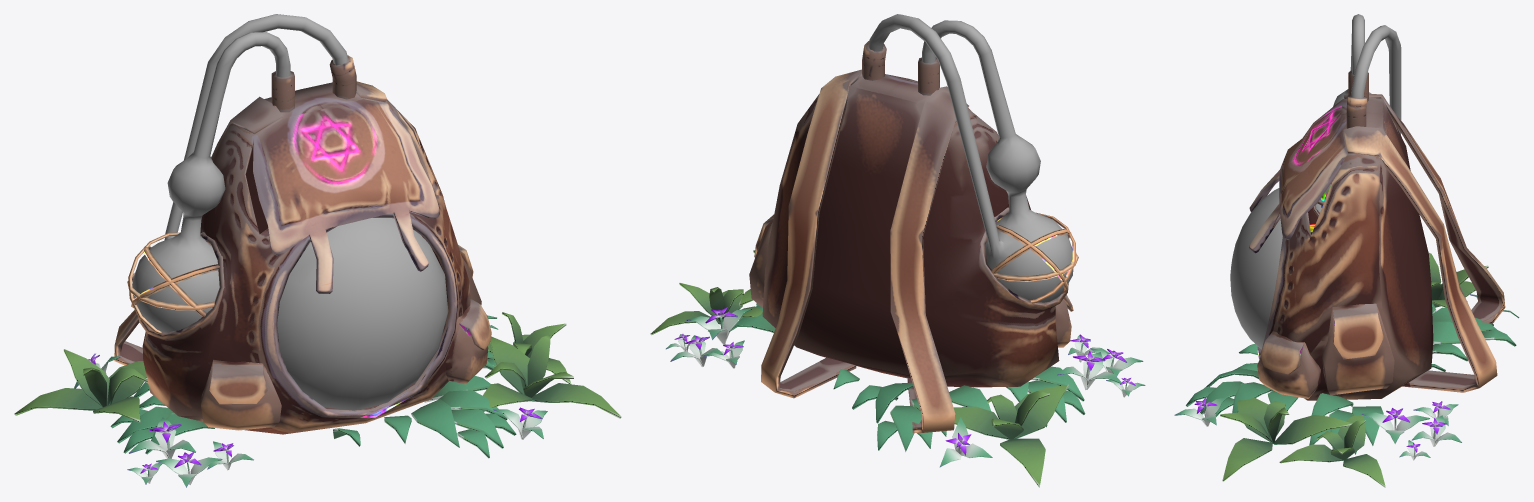
Rendered from Backpack.fbx.
3 views of the same model, side by side, from view 1: azimuth 30°, elevation 25°; view 2: azimuth 150°, elevation 25°; view 3: azimuth 270°, elevation 25° (orthographic). The views are drawn at different scales.
Visible parts, largest first — view 1: Backpack; view 2: Backpack; view 3: Backpack.
Part boxes in pixels (box(x1,y1,x2,y2)): Backpack: box(14, 14, 621, 487); Backpack: box(650, 14, 1145, 487); Backpack: box(1174, 14, 1519, 487).
Bounding box in the file's own units: 90.23 × 73.33 × 66.49.
